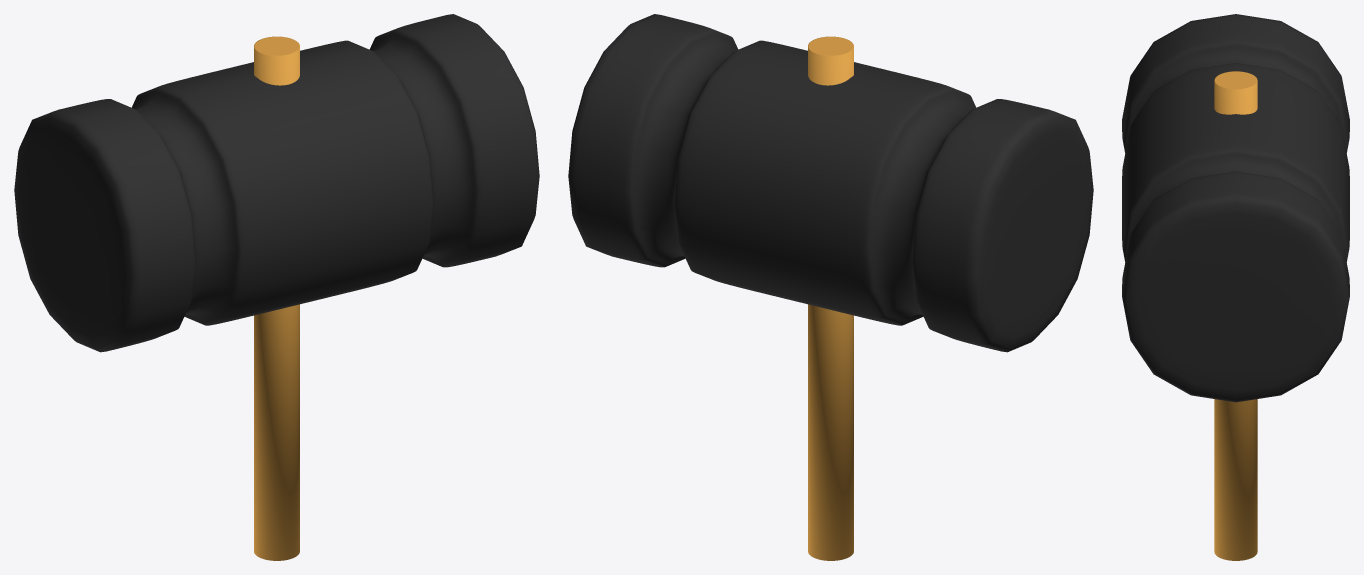
File: Hammer.fbx
The picture shows the model from 3 angles, left to right: view 1: azimuth 30°, elevation 25°; view 2: azimuth 150°, elevation 25°; view 3: azimuth 270°, elevation 25°; orthographic projection. The views are drawn at different scales.
Parts seen in each view (by area): view 1: Hammer; view 2: Hammer; view 3: Hammer.
Part boxes in pixels (<box>): Hammer: <box>14,14,539,560</box>; Hammer: <box>568,14,1093,560</box>; Hammer: <box>1122,14,1349,560</box>.
Bounding box in the file's own units: 358 × 418 × 183.
1 material, 1 textured.
